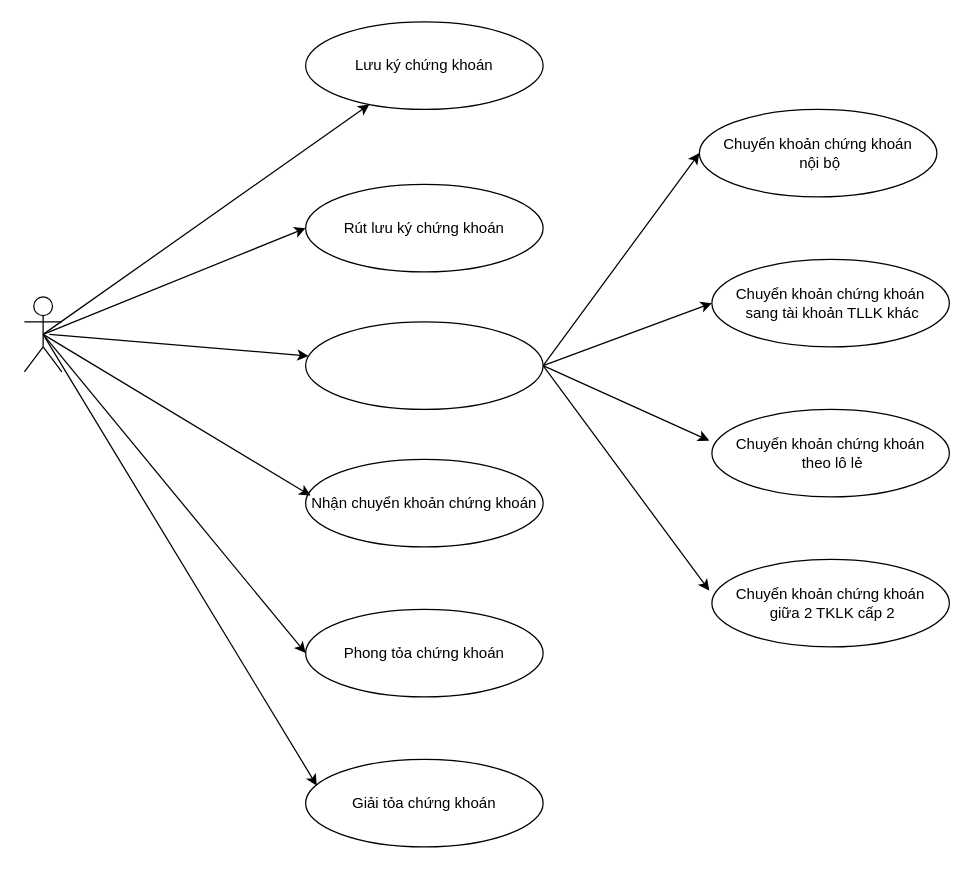
This 971x869 diagram has some shape labels left out. The shapes that lost their labels are listed below. From the top down, each one's centre as x and y in pixels, then its label:
[42,334]: Admin
[423,365]: Chuyển khoản chứng khoán
